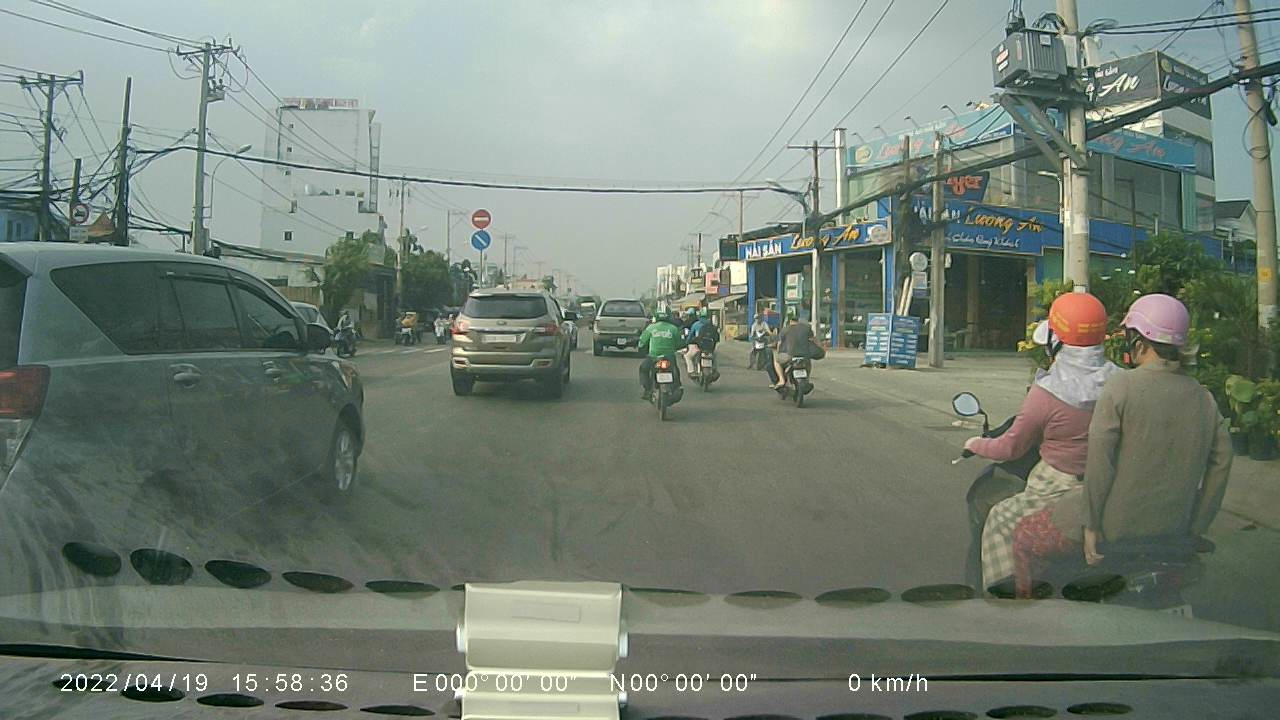Cam di nguoc chieu: (470, 206, 493, 227)
Huong di phai re phai: (470, 230, 489, 253)
